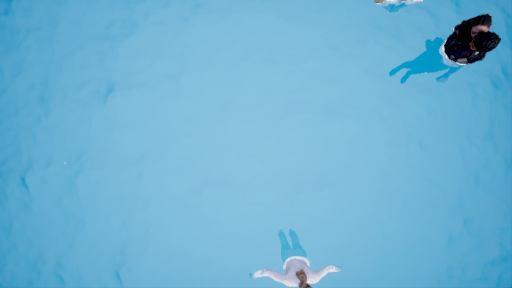person: (399, 19, 484, 99), (256, 229, 338, 288)
